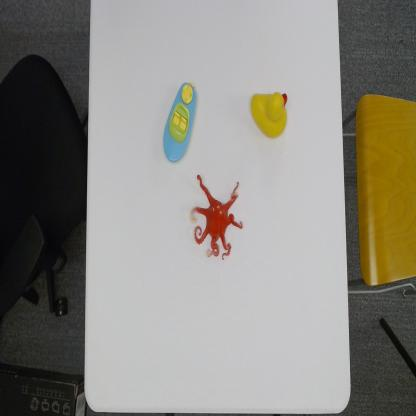Boat: (162, 81, 198, 166)
Duck: (249, 86, 289, 140)
Octopus: (189, 174, 243, 259)
